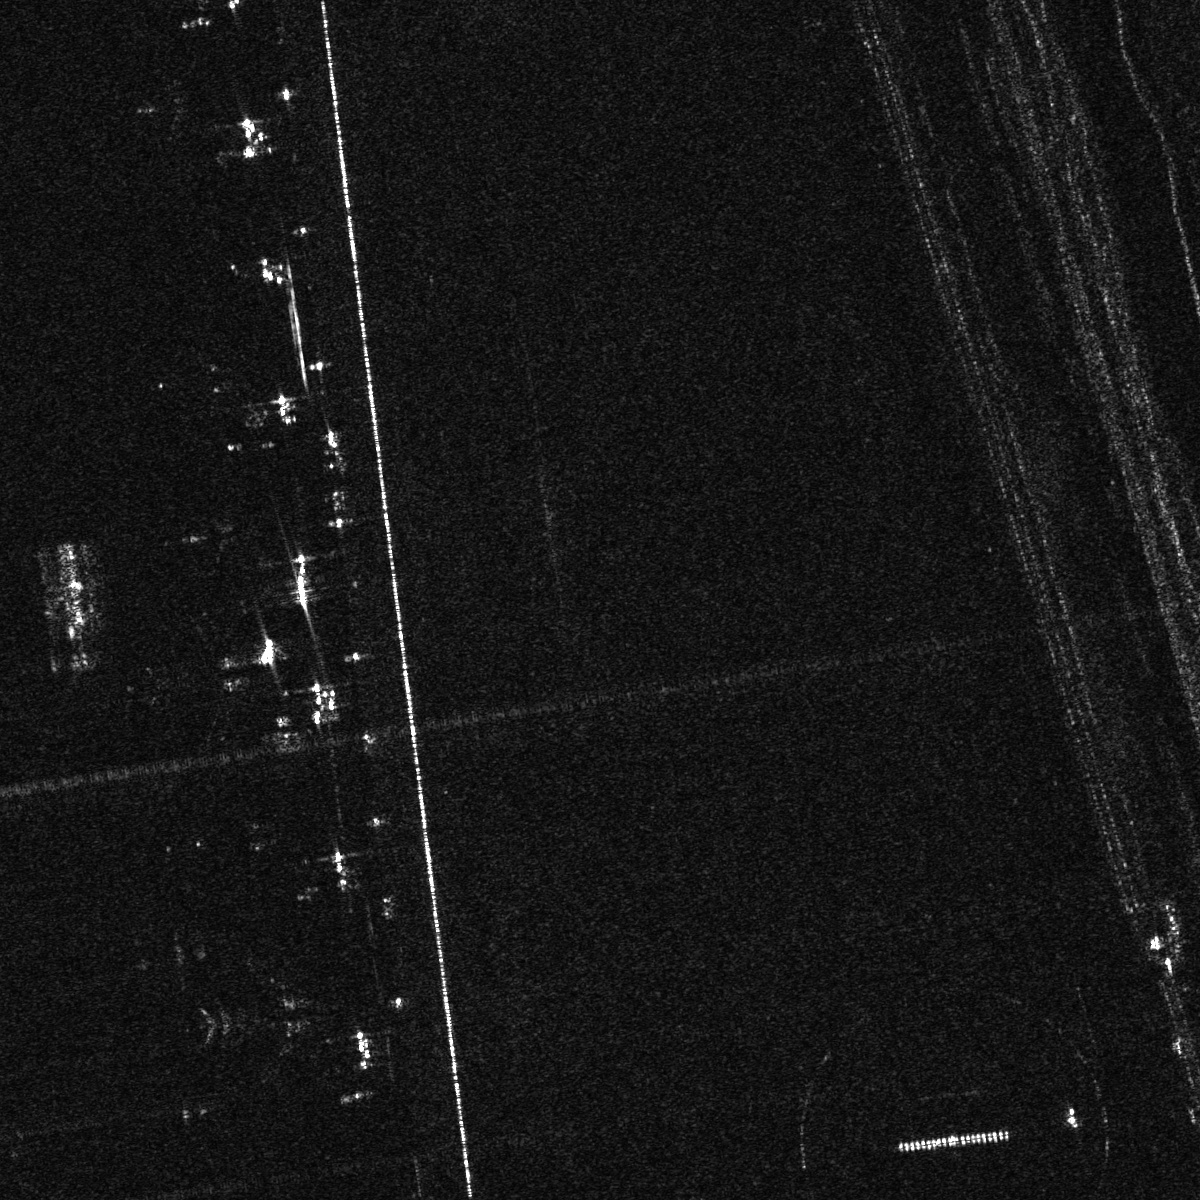A220: (173, 504, 240, 570)
Boeing787: (202, 956, 342, 1078), (125, 70, 207, 144)
